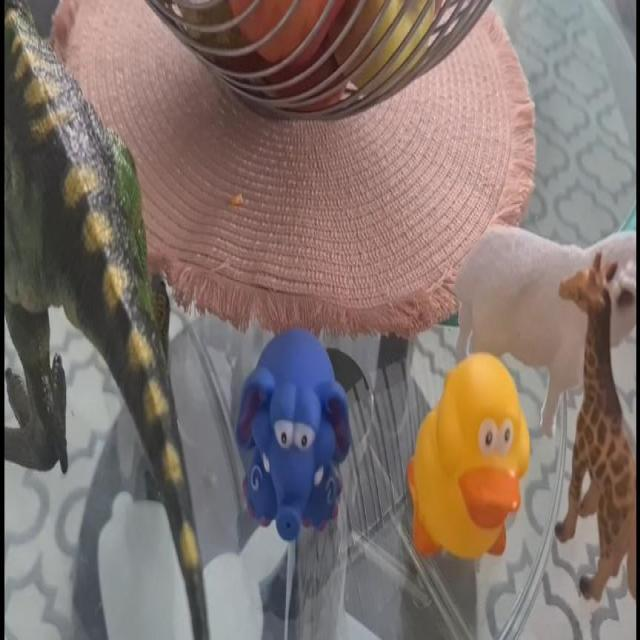hard-toy: (6, 2, 210, 640), (556, 257, 637, 600), (409, 355, 531, 560), (239, 331, 351, 542)
